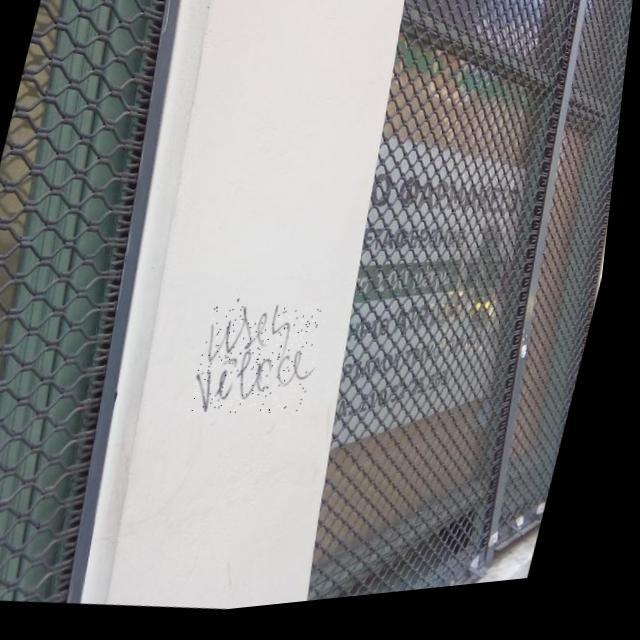-: (197, 302, 336, 432)
